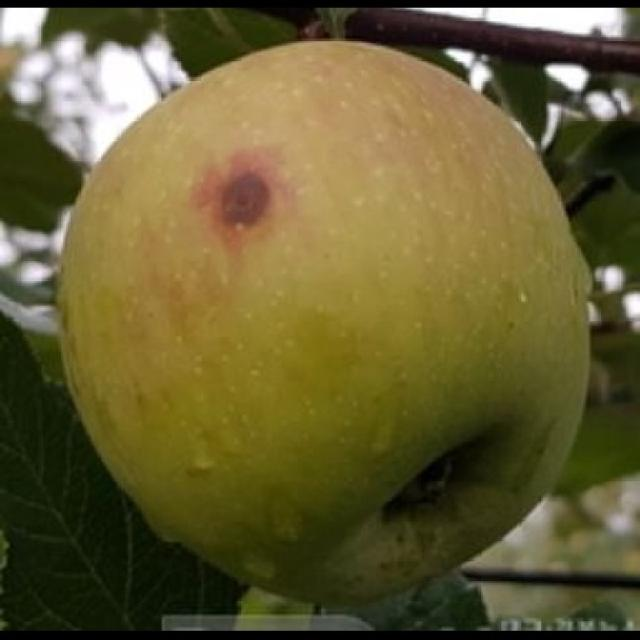Rotten Apple: (52, 35, 596, 603)
